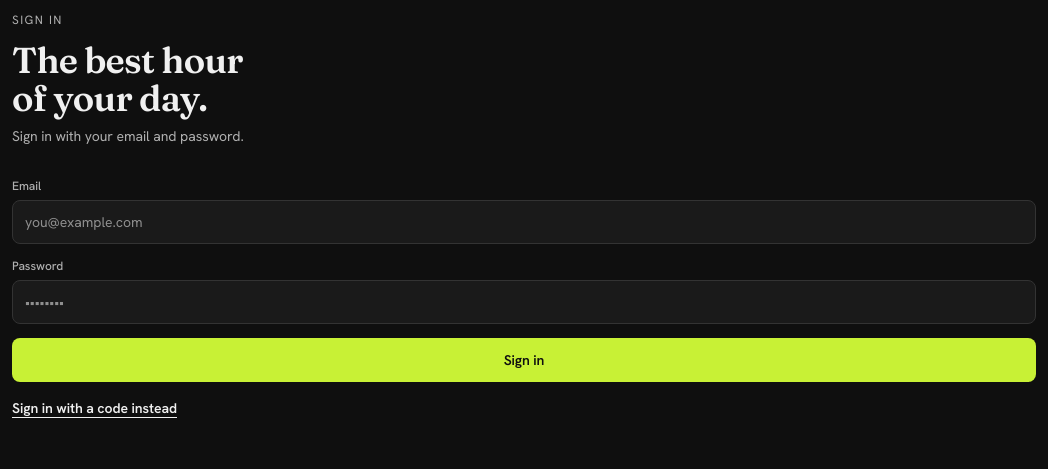
Scenario: LoginForm › shows the auth error as an alert
Type "a@b.co" into the field labelled "Email" at x=524, y=222, box 12,200 -> 1036,244
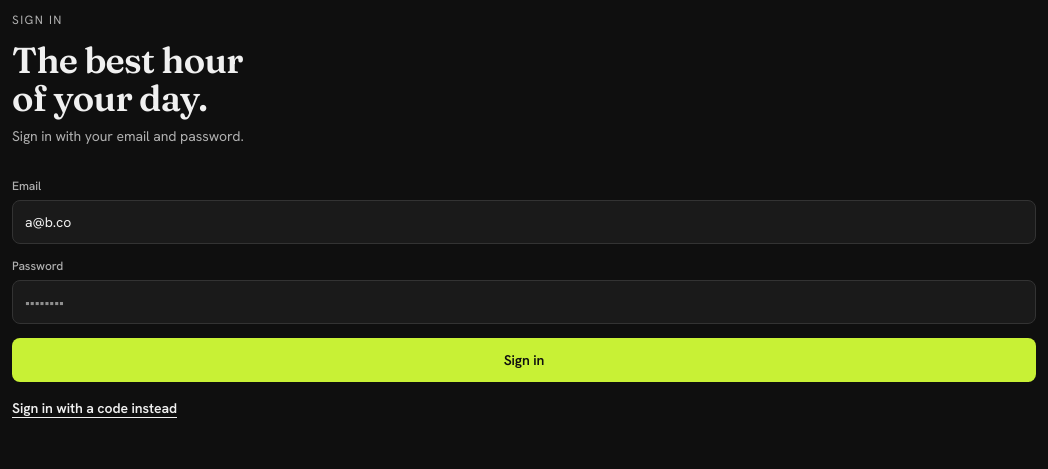
Type "x" into the password field labelled "Password" at x=524, y=302, box 12,280 -> 1036,324
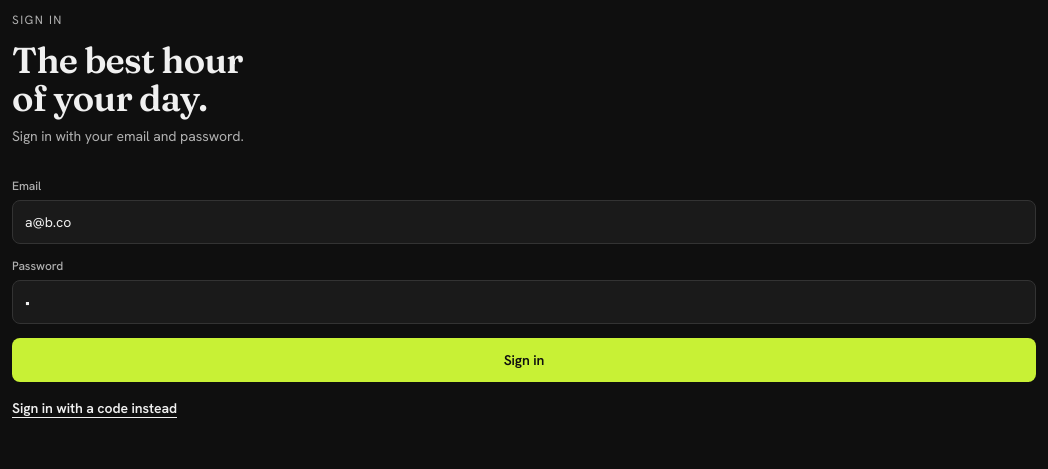
Click the button "Sign in" at x=524, y=360, box 12,338 -> 1036,382
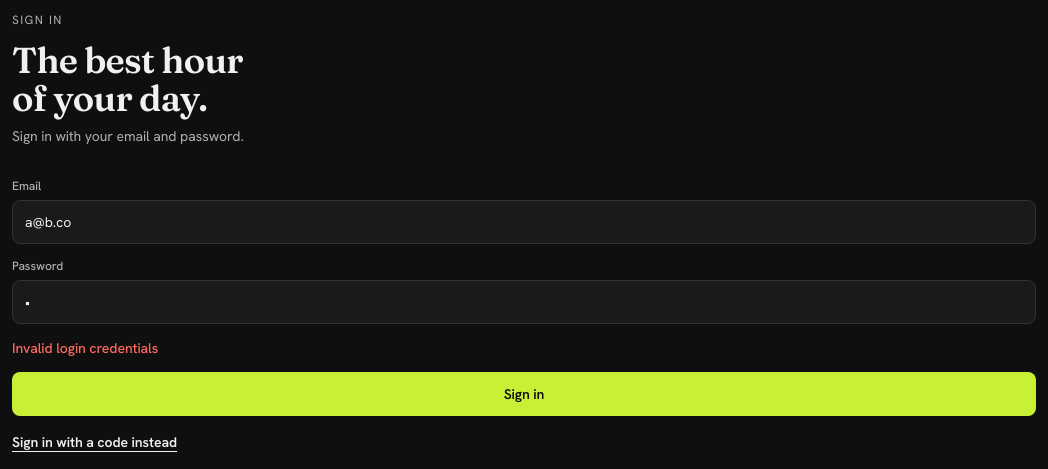
Expected: the message reads "Invalid login credentials", 12,339 -> 158,357
